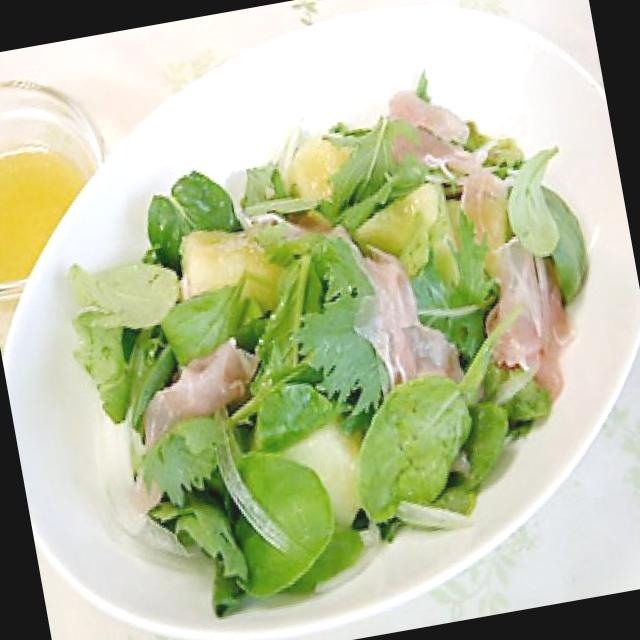Green Salad: (41, 63, 578, 395)
